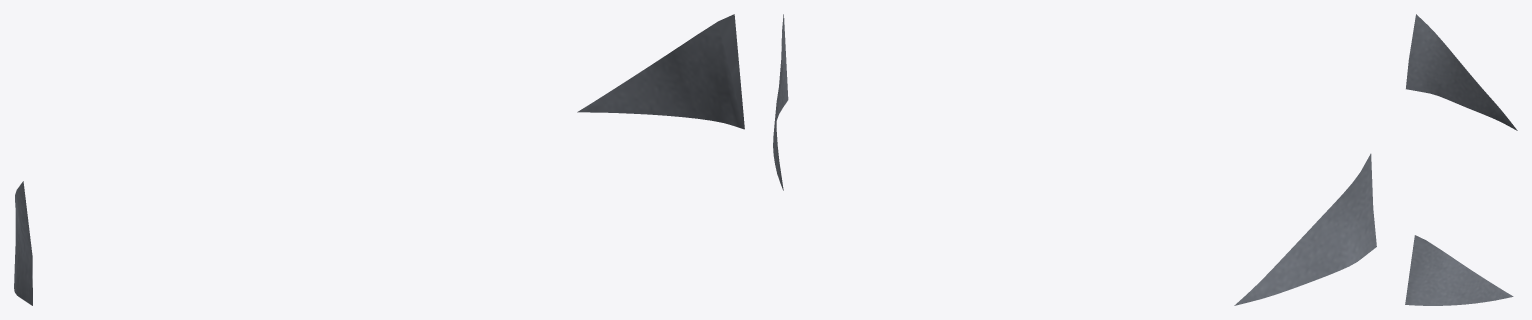
Rendered from Jac_Flic_BOTTOM_BACK.glb.
3 views of the same model, side by side, from view 1: azimuth 30°, elevation 25°; view 2: azimuth 150°, elevation 25°; view 3: azimuth 270°, elevation 25° (orthographic). The views are drawn at different scales.
Visible parts, largest first — view 1: Jac_Flic_BOTTOM_BACK.001; view 2: Jac_Flic_BOTTOM_BACK.001; view 3: Jac_Flic_BOTTOM_BACK.001.
Boxes of the visible parts, x1,y1,x2,y2 form: Jac_Flic_BOTTOM_BACK.001: [14, 14, 744, 305]; Jac_Flic_BOTTOM_BACK.001: [773, 14, 1376, 305]; Jac_Flic_BOTTOM_BACK.001: [1405, 14, 1517, 305].
Size of the model in its own units: 0.6478 by 0.1262 by 0.1414.
Materials: 1 (1 with a texture image).
